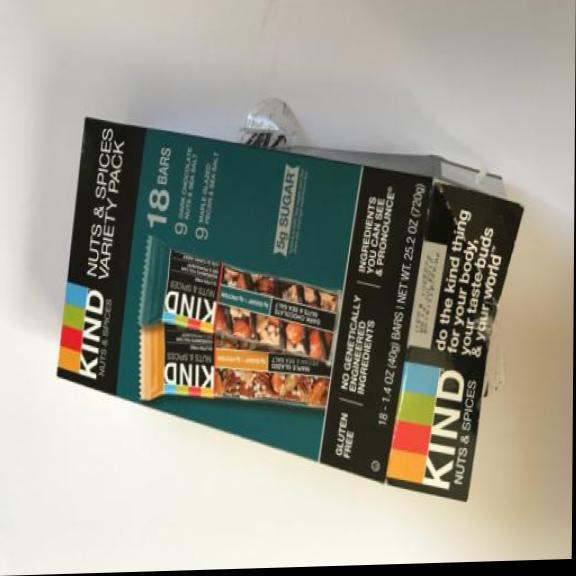Kertas: (49, 77, 532, 519)
